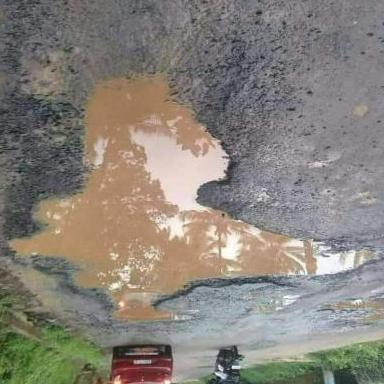pothole: (47, 63, 330, 335)
